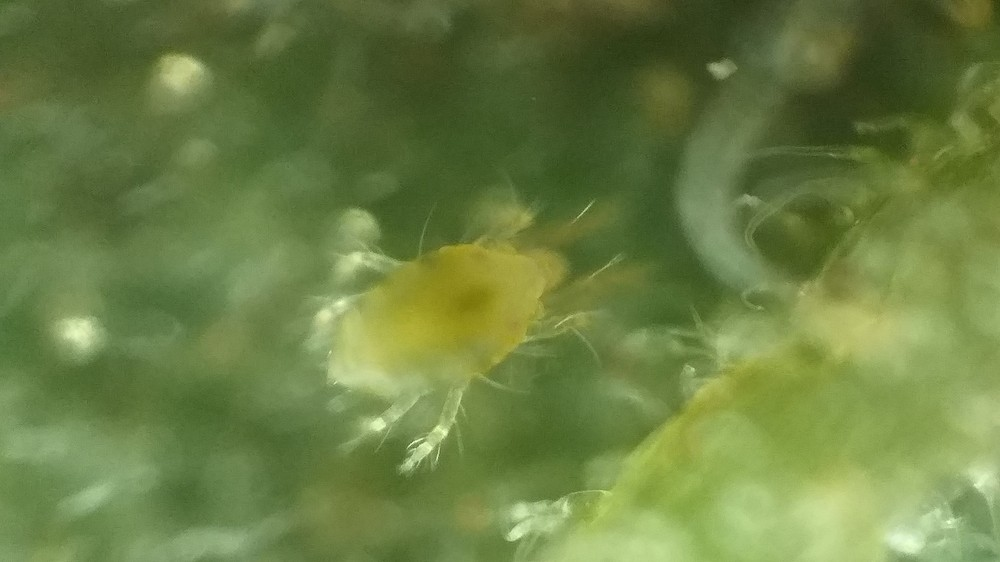Aracnido Rojo: (266, 176, 698, 468)
